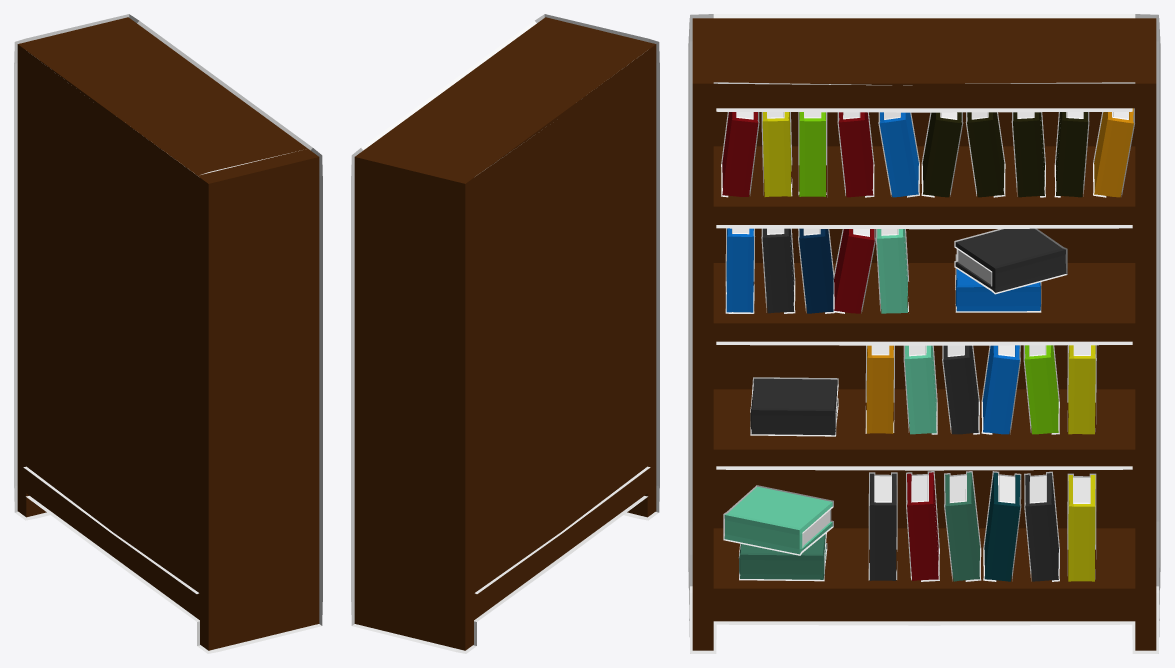
The model's file is manual.glb.
The picture shows the model from 3 angles, left to right: view 1: azimuth 30°, elevation 25°; view 2: azimuth 150°, elevation 25°; view 3: azimuth 270°, elevation 25°; orthographic projection. The views are drawn at different scales.
Parts seen in each view (by area): view 1: Bookshelf_32; view 2: Bookshelf_32; view 3: Bookshelf_32, Cube.026_25, Cube.017_16, Cube.018_17, Cube.030_29, Cube.029_28, Cube.031_30, Cube.028_27, Cube.027_26, Books_31, Cube.022_21, Cube.025_24 (+21 smaller).
Boxes of the visible parts, x1=… form: Bookshelf_32: x1=14, y1=14, x2=322, y2=653; Bookshelf_32: x1=351, y1=14, x2=659, y2=653; Bookshelf_32: x1=688, y1=14, x2=1160, y2=653; Cube.026_25: x1=723, y1=485, x2=833, y2=555; Cube.017_16: x1=954, y1=228, x2=1067, y2=294; Cube.018_17: x1=750, y1=377, x2=838, y2=436; Cube.030_29: x1=983, y1=471, x2=1021, y2=581; Cube.029_28: x1=944, y1=471, x2=981, y2=581; Cube.031_30: x1=1024, y1=471, x2=1059, y2=581; Cube.028_27: x1=906, y1=471, x2=939, y2=581; Cube.027_26: x1=868, y1=472, x2=897, y2=580; Books_31: x1=1067, y1=473, x2=1096, y2=581; Cube.022_21: x1=981, y1=345, x2=1020, y2=434; Cube.025_24: x1=738, y1=533, x2=827, y2=581.
Bounding box in the file's own units: 1.83 × 7.04 × 5.26.
